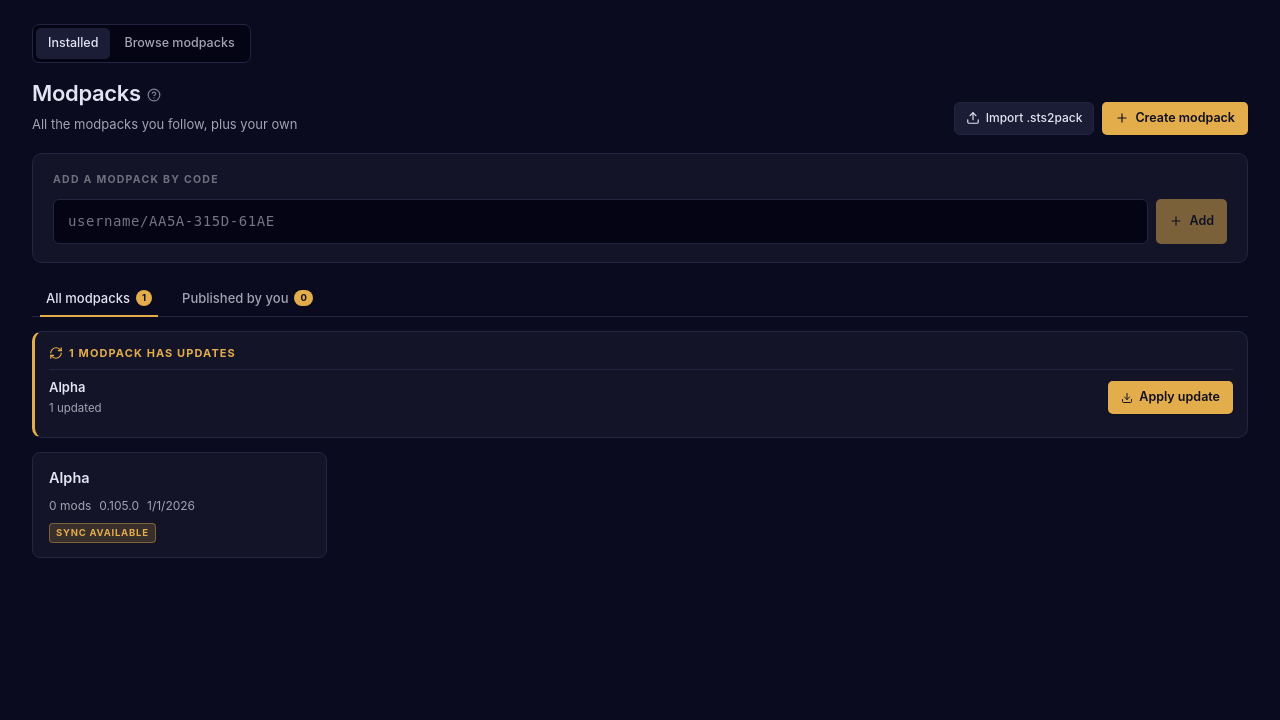
Test case: <ProfilesView> › Apply update error path surfaces a toast
The image size is (1280, 720).
Step 1. Click the button "Apply update" → (1171, 398), box [1108,381,1233,414]
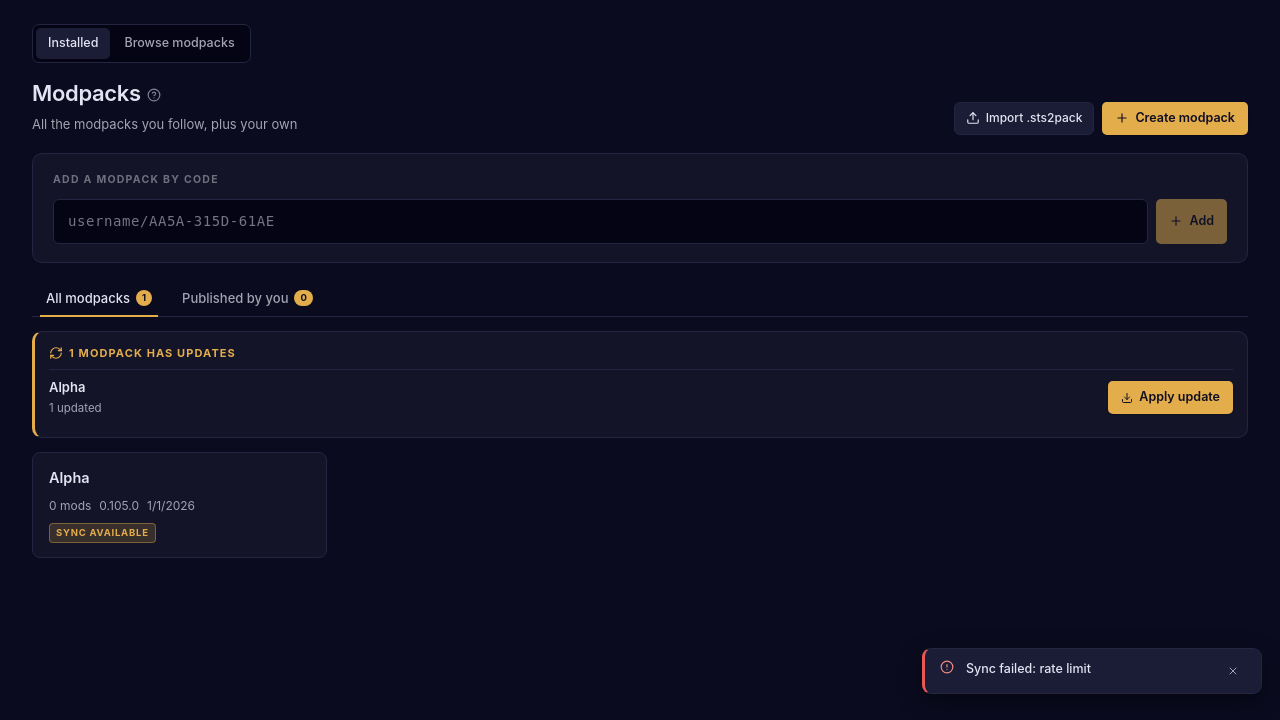
Result: the text "Sync failed: rate limit" is shown at [966,661,1091,676]
